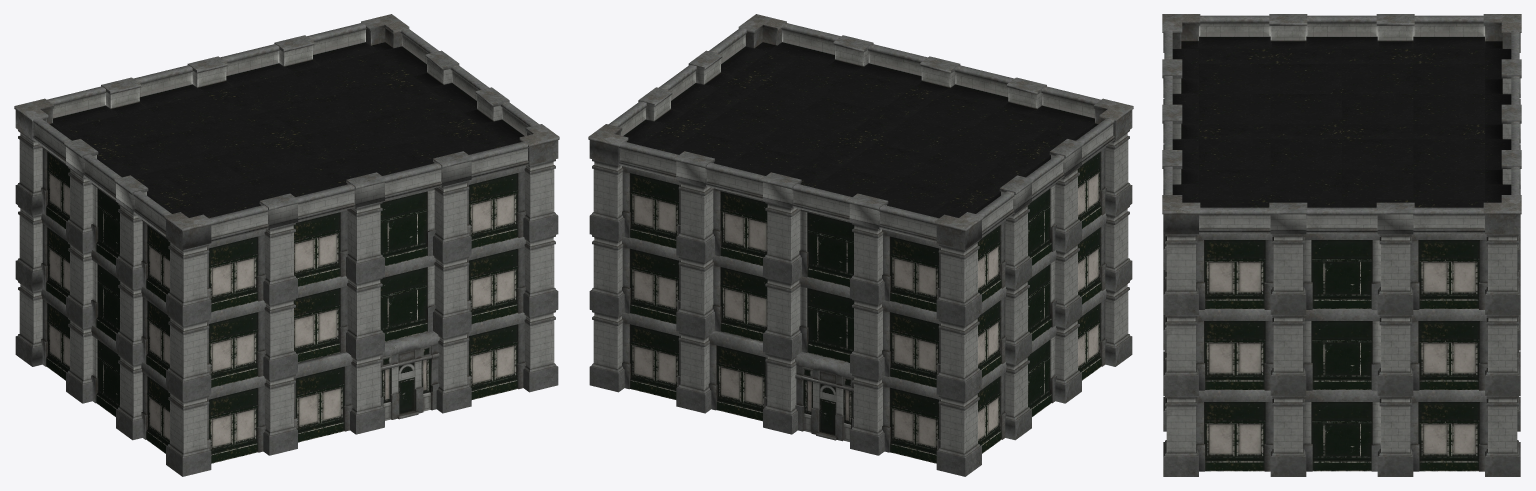
Rendered from building-size-5-4.glb.
3 renders of one model, left to right at view 1: azimuth 30°, elevation 25°; view 2: azimuth 150°, elevation 25°; view 3: azimuth 270°, elevation 25°, orthographic. The views are drawn at different scales.
Visible parts, largest first — view 1: Building01_B_Prefab; view 2: Building01_B_Prefab; view 3: Building01_B_Prefab.
Boxes of the visible parts, <box> form: Building01_B_Prefab: <box>14,14,559,476</box>; Building01_B_Prefab: <box>588,14,1133,476</box>; Building01_B_Prefab: <box>1162,14,1521,476</box>.
Size of the model in its own units: 13.06 by 8.23 by 10.06.
1 material, 1 textured.
